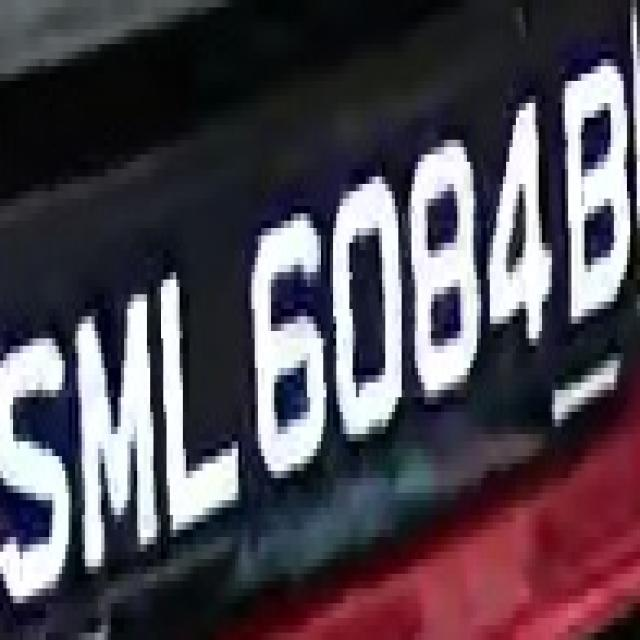0: (310, 169, 402, 464)
4: (476, 88, 562, 346)
6: (242, 184, 333, 515)
8: (398, 125, 490, 405)
B: (562, 52, 636, 353)
L: (157, 257, 248, 552)
M: (62, 250, 160, 581)
S: (3, 287, 69, 633)
